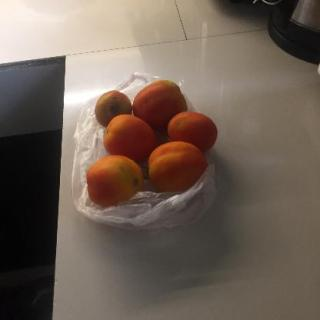Tomat: (78, 74, 229, 231)
